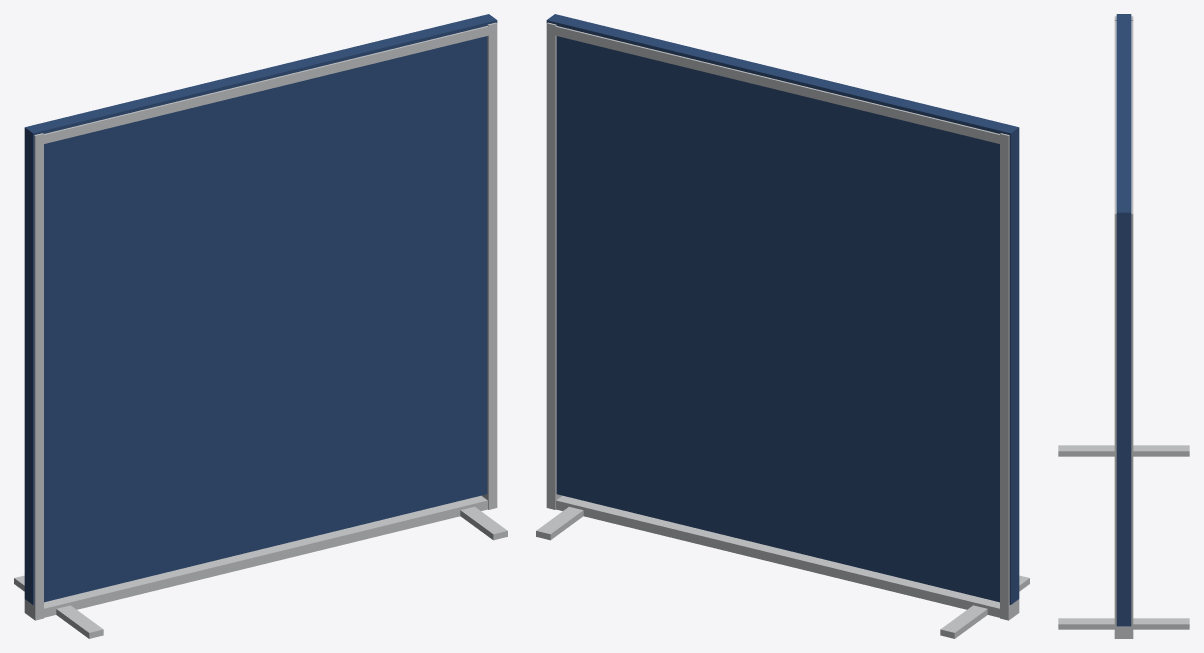
The model's file is office.screen.partition_1600.glb.
The picture shows the model from 3 angles, left to right: view 1: azimuth 30°, elevation 25°; view 2: azimuth 150°, elevation 25°; view 3: azimuth 270°, elevation 25°; orthographic projection. The views are drawn at different scales.
Parts seen in each view (by area): view 1: main__fabric_blue, main__aluminium; view 2: main__fabric_blue, main__aluminium; view 3: main__fabric_blue, main__aluminium.
Boxes of the visible parts, box(x1,y1,x2,y2) form: main__fabric_blue: box(24, 14, 497, 604); main__aluminium: box(14, 22, 507, 638); main__fabric_blue: box(546, 14, 1019, 604); main__aluminium: box(536, 22, 1029, 638); main__fabric_blue: box(1116, 14, 1131, 626); main__aluminium: box(1058, 16, 1189, 638).
Size of the model in its own units: 1.61 by 1.61 by 0.45.
